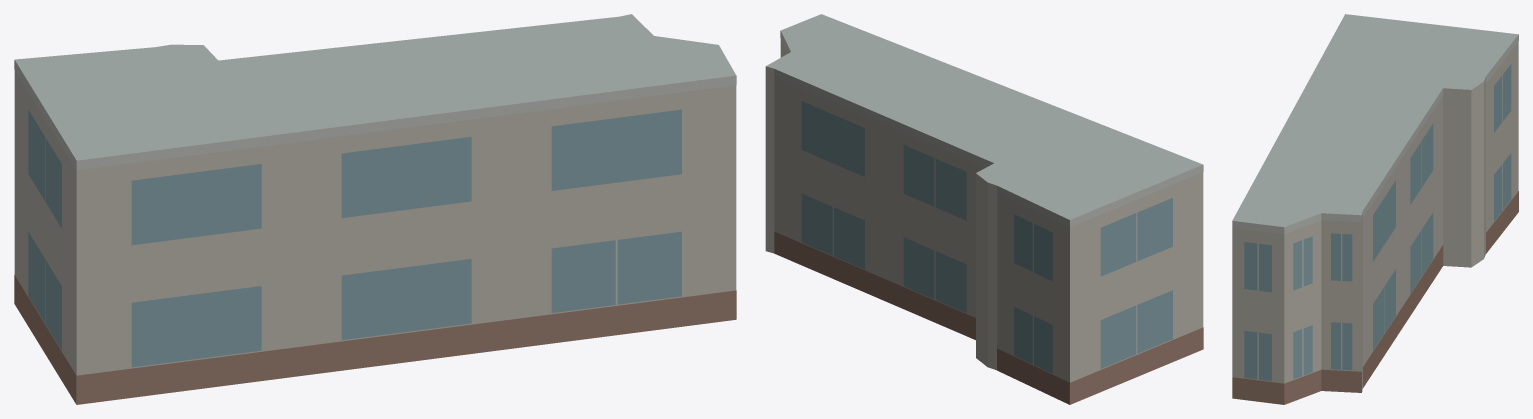
File: survey-upis-32456369.glb
3 renders of one model, left to right at view 1: azimuth 30°, elevation 25°; view 2: azimuth 150°, elevation 25°; view 3: azimuth 270°, elevation 25°, orthographic. The views are drawn at different scales.
Parts seen in each view (by area): view 1: survey-upis-32456369.tmp; view 2: survey-upis-32456369.tmp; view 3: survey-upis-32456369.tmp.
Boxes of the visible parts, <box> form: survey-upis-32456369.tmp: <box>14,14,736,404</box>; survey-upis-32456369.tmp: <box>765,14,1203,404</box>; survey-upis-32456369.tmp: <box>1232,14,1518,404</box>.
Bounding box in the file's own units: 15.71 × 6.1 × 8.93.
